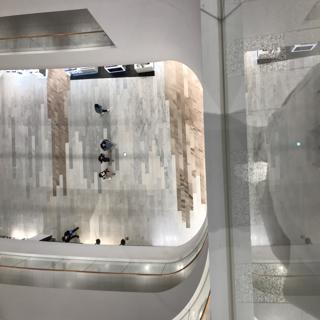person: (91, 167, 122, 183), (89, 96, 109, 116), (96, 133, 115, 153)
